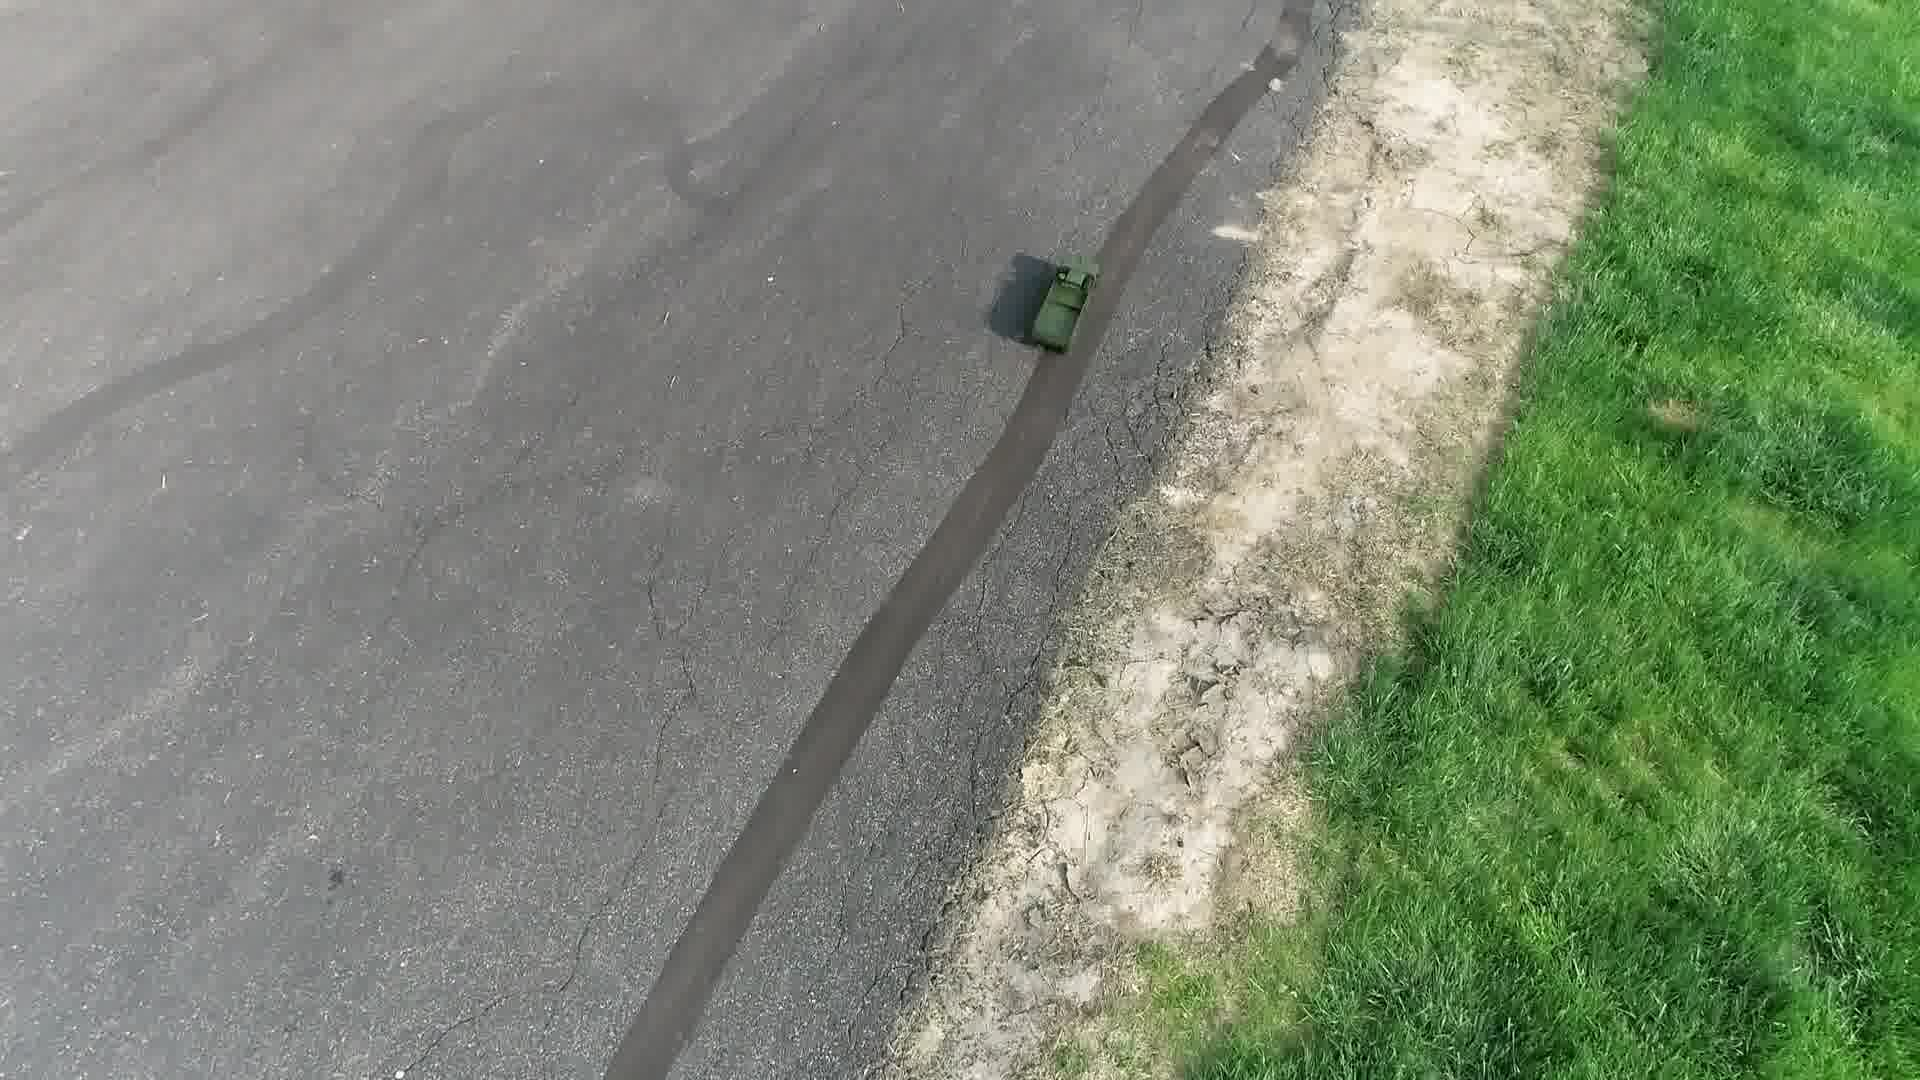transporter9: (1015, 253, 1102, 359)
